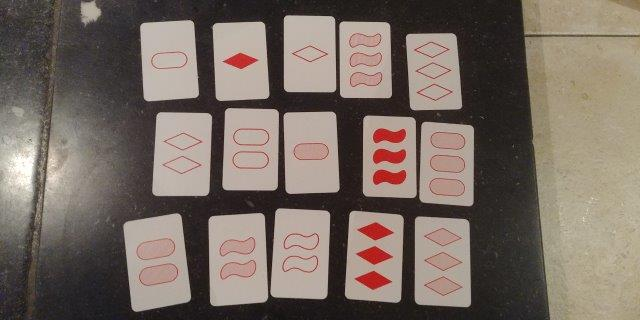1ED: (286, 19, 331, 88)
1EP: (146, 24, 191, 95)
1FD: (217, 24, 262, 94)
1HP: (287, 114, 333, 189)
2ED: (158, 115, 205, 193)
2EP: (227, 110, 274, 187)
2EW: (275, 212, 325, 295)
2HP: (131, 222, 179, 302)
2HW: (212, 217, 262, 298)
3ED: (410, 35, 455, 107)
3FD: (351, 215, 398, 299)
3FW: (365, 118, 410, 195)
3HD: (415, 223, 466, 303)
3HP: (422, 126, 470, 201)
3HW: (340, 23, 388, 95)
